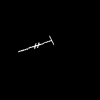treble_crochet: (19, 40, 51, 51)
